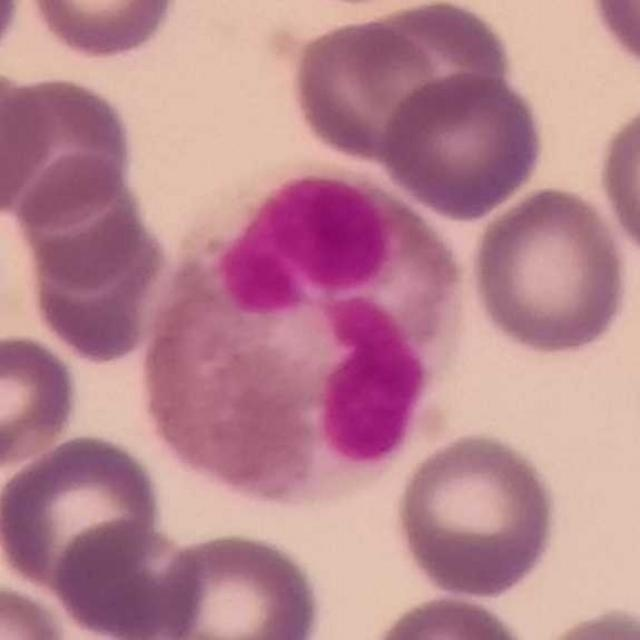eosino: (142, 163, 471, 509)
